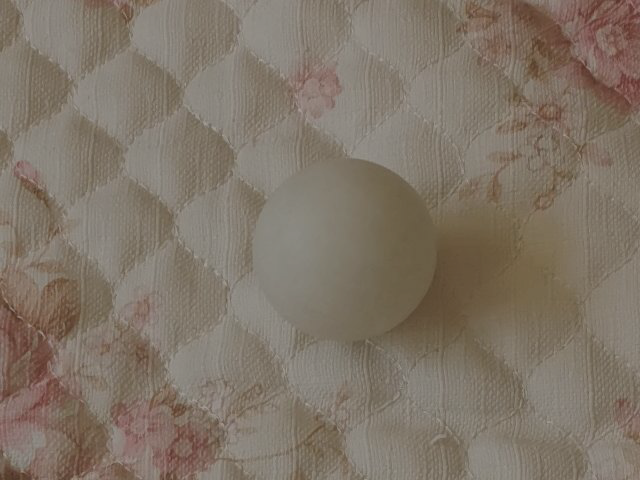ball: (254, 155, 436, 341)
